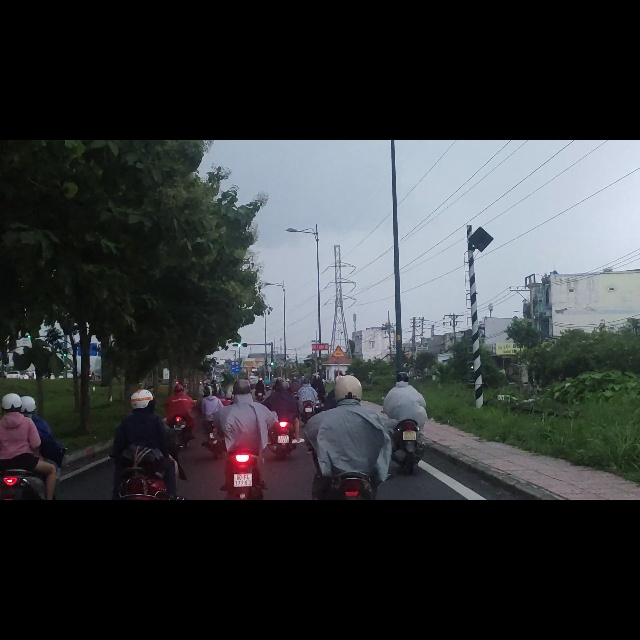bien_cam: (331, 364, 345, 386)
